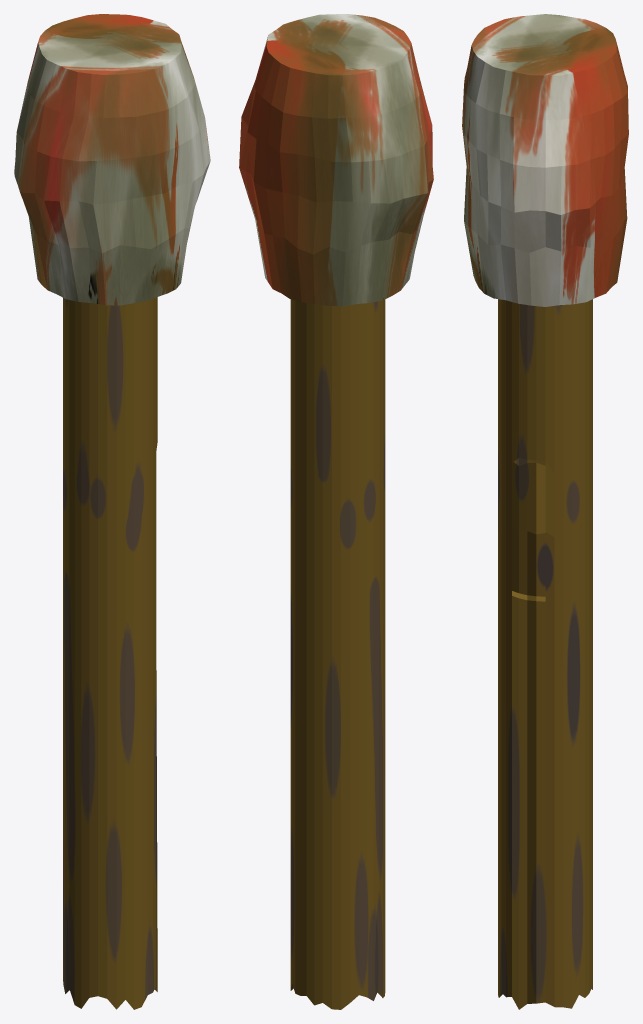
File: TochaSuja.fbx
The picture shows the model from 3 angles, left to right: view 1: azimuth 30°, elevation 25°; view 2: azimuth 150°, elevation 25°; view 3: azimuth 270°, elevation 25°; orthographic projection.
Parts seen in each view (by area): view 1: Tocha; view 2: Tocha; view 3: Tocha.
Part boxes in pixels (x1,y1,x2,y2): Tocha: (14, 14, 210, 1009); Tocha: (239, 14, 433, 1009); Tocha: (462, 14, 628, 1009).
Size of the model in its own units: 137 by 689 by 110.
2 materials, 2 textured.
